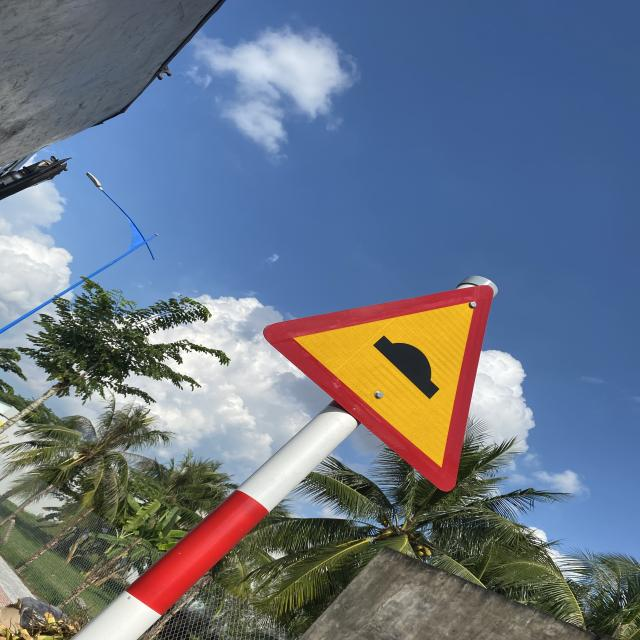Duong_Cong_Ben_Phai: (265, 286, 496, 492)
